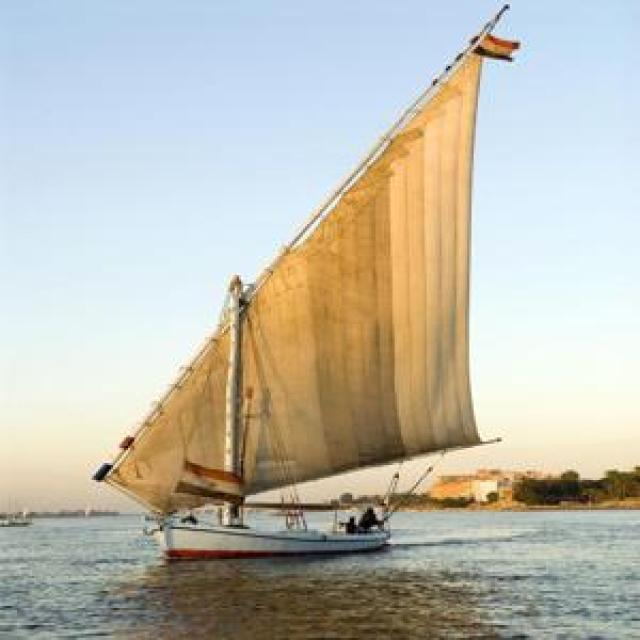sailboat: (86, 6, 542, 556)
